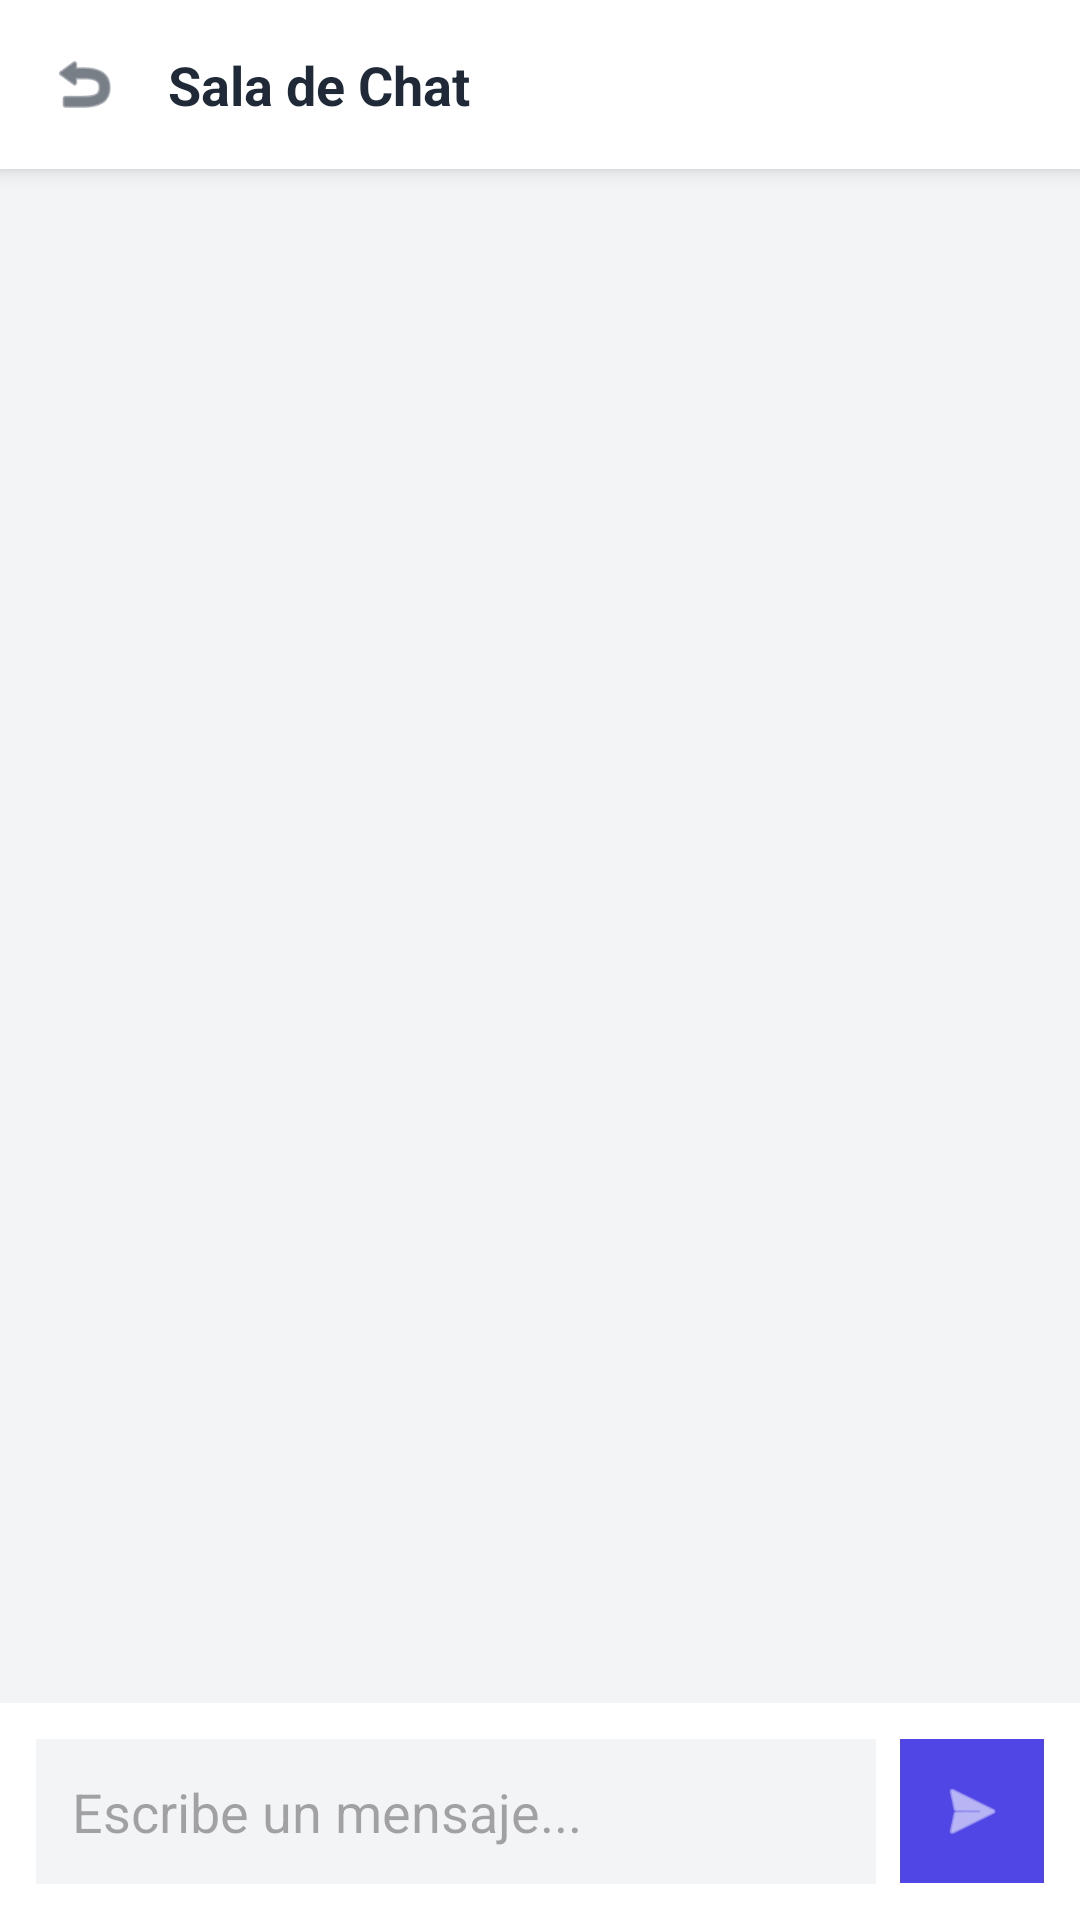

Where to tap for icons on this 1080w x 1920h app screen, as (x,y):
revert: (85,84)
send: (972,1811)
